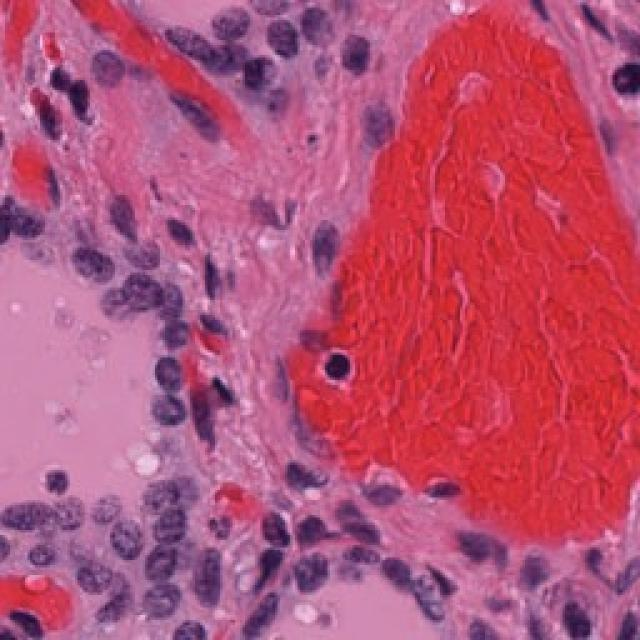normal: (258, 0, 318, 77), (222, 44, 281, 116), (137, 304, 207, 360), (137, 493, 207, 546), (282, 532, 333, 604), (132, 345, 195, 401), (198, 0, 273, 42), (130, 581, 202, 623), (411, 570, 455, 632), (112, 270, 166, 318), (145, 389, 187, 450), (102, 506, 147, 562), (141, 545, 185, 581)
